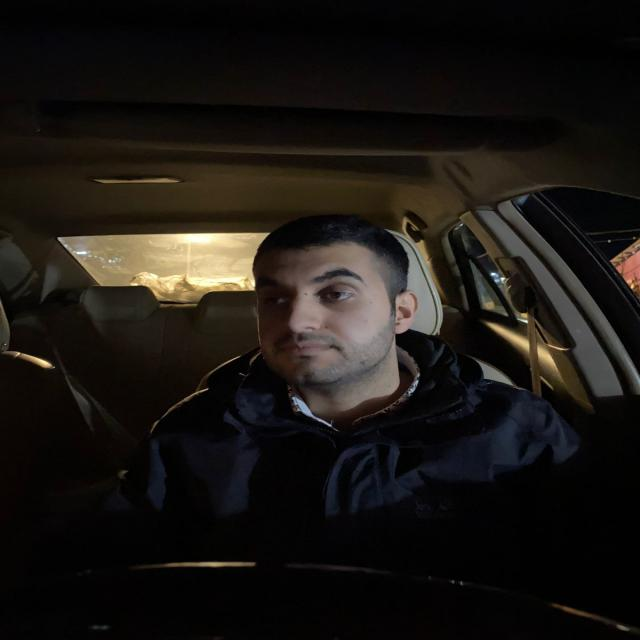person: (242, 223, 419, 379)
